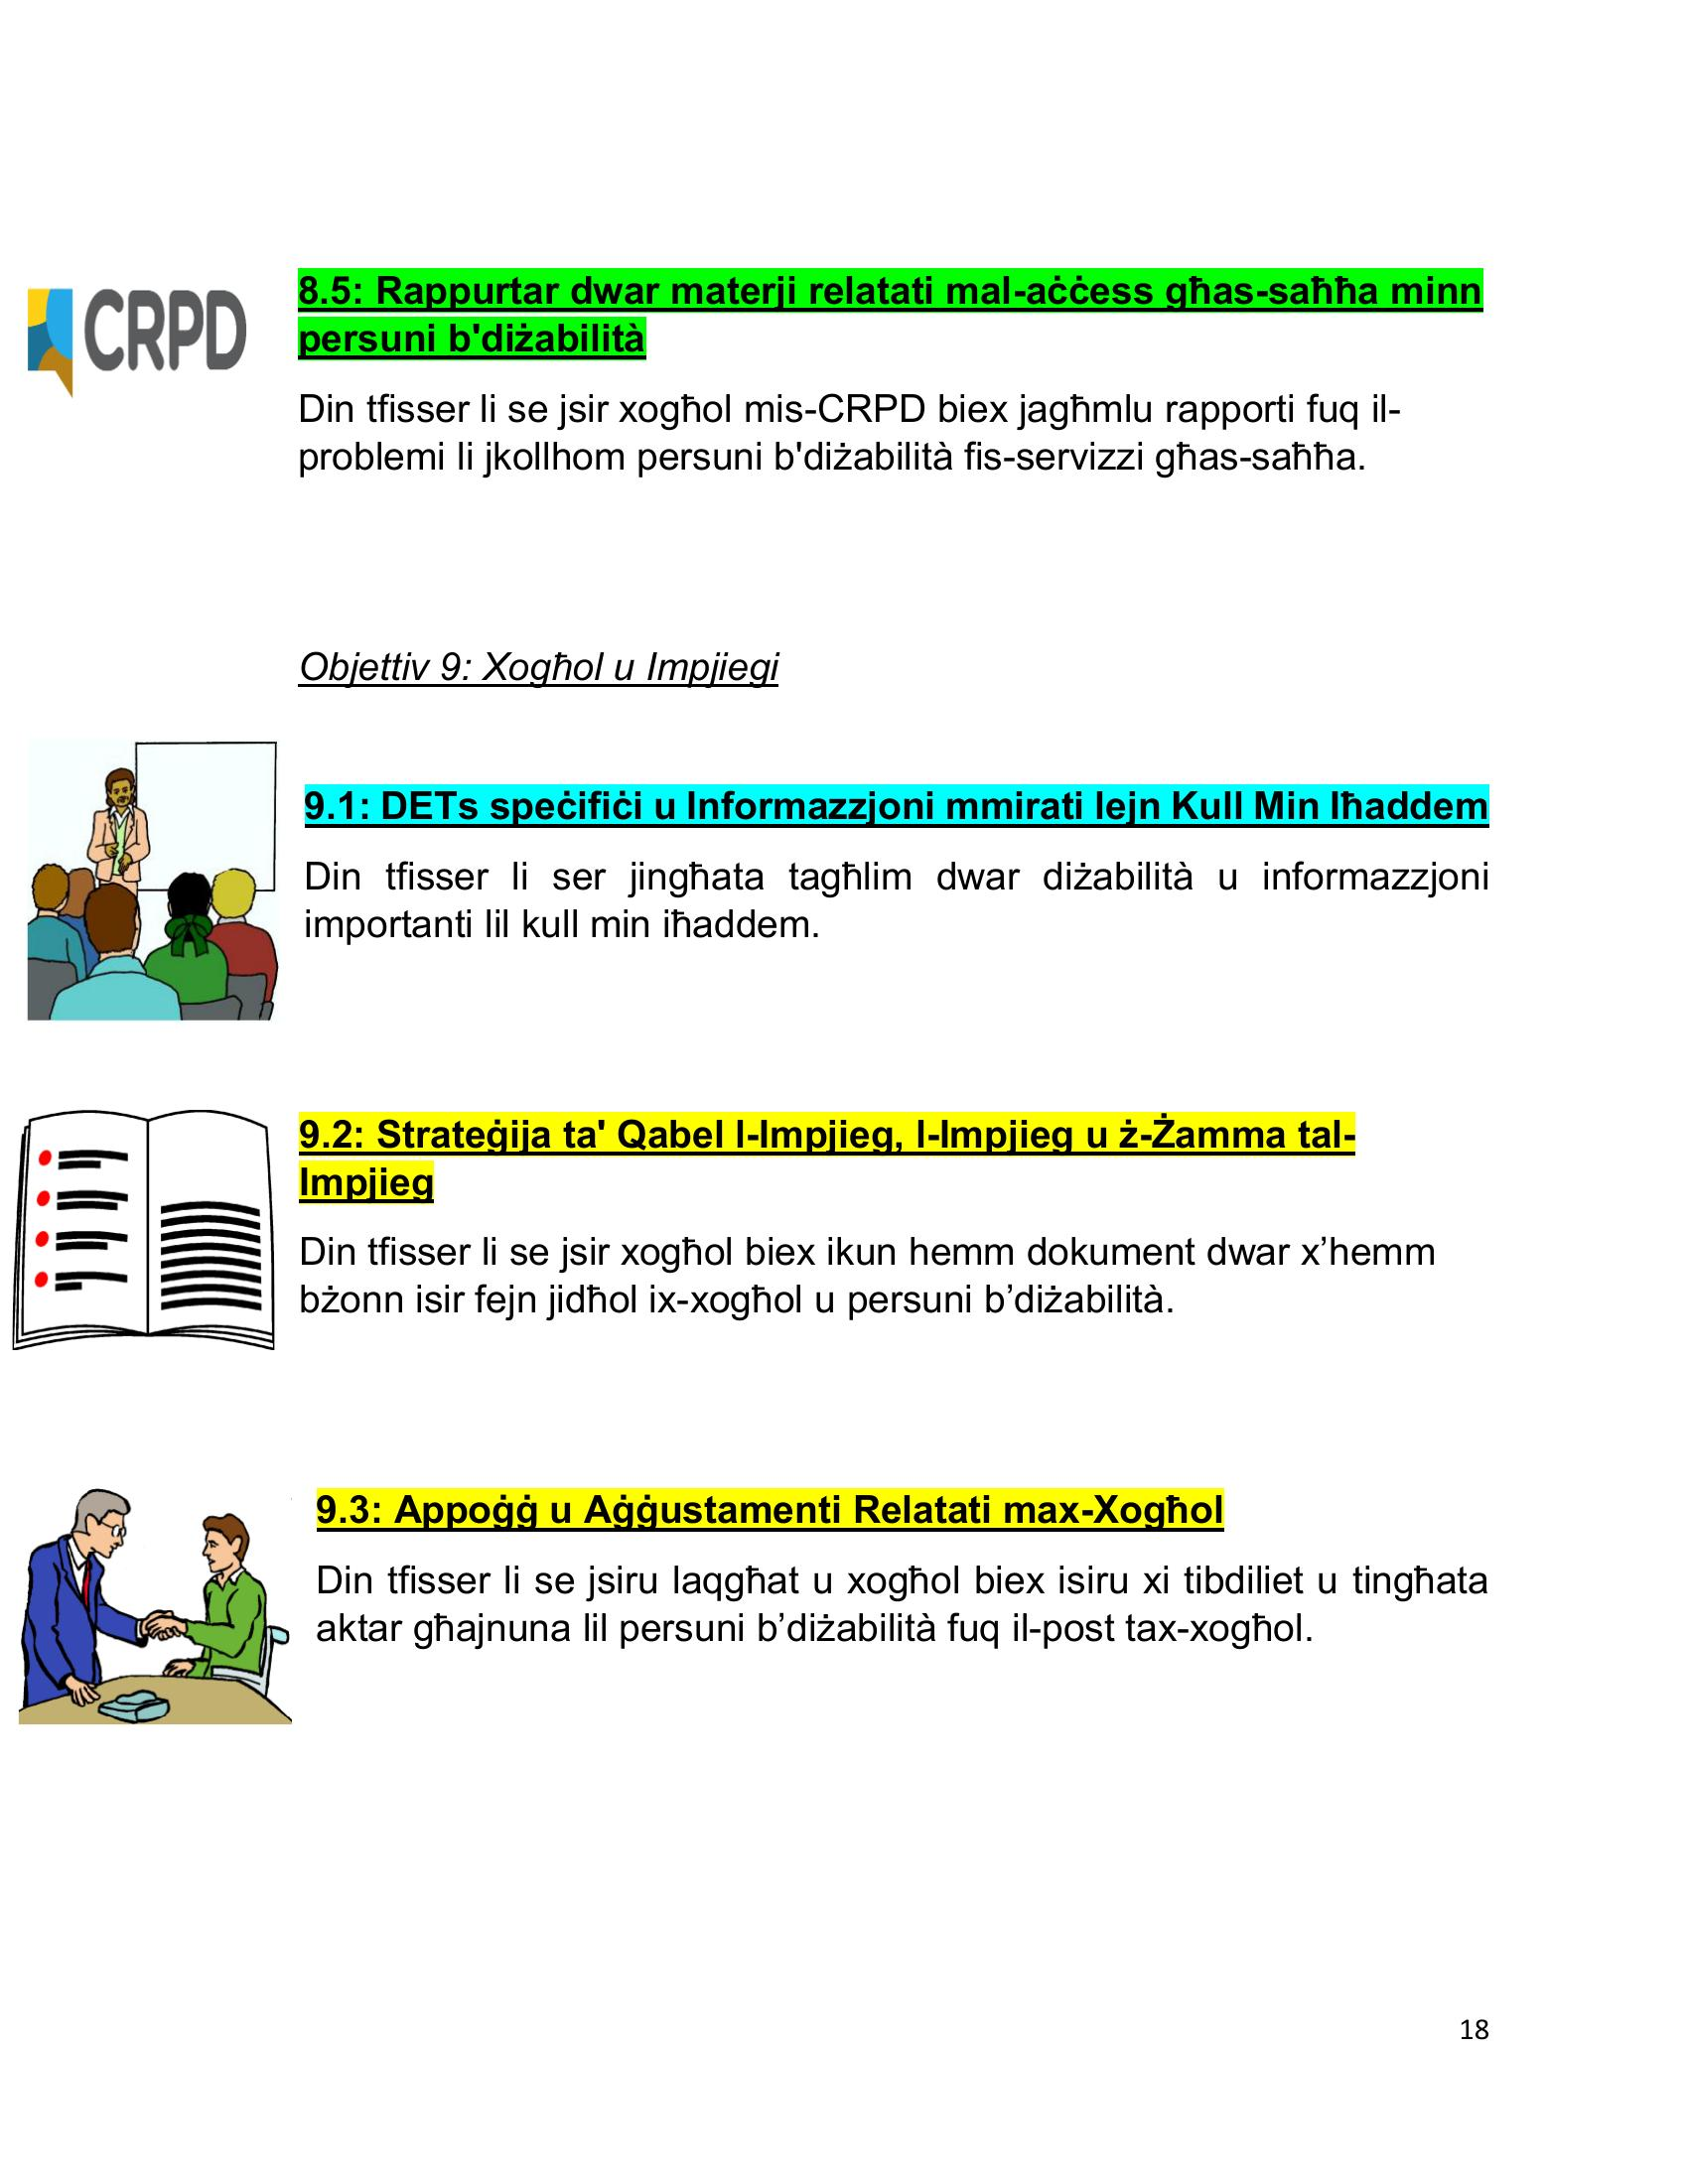text: (289, 245, 1521, 1682)
